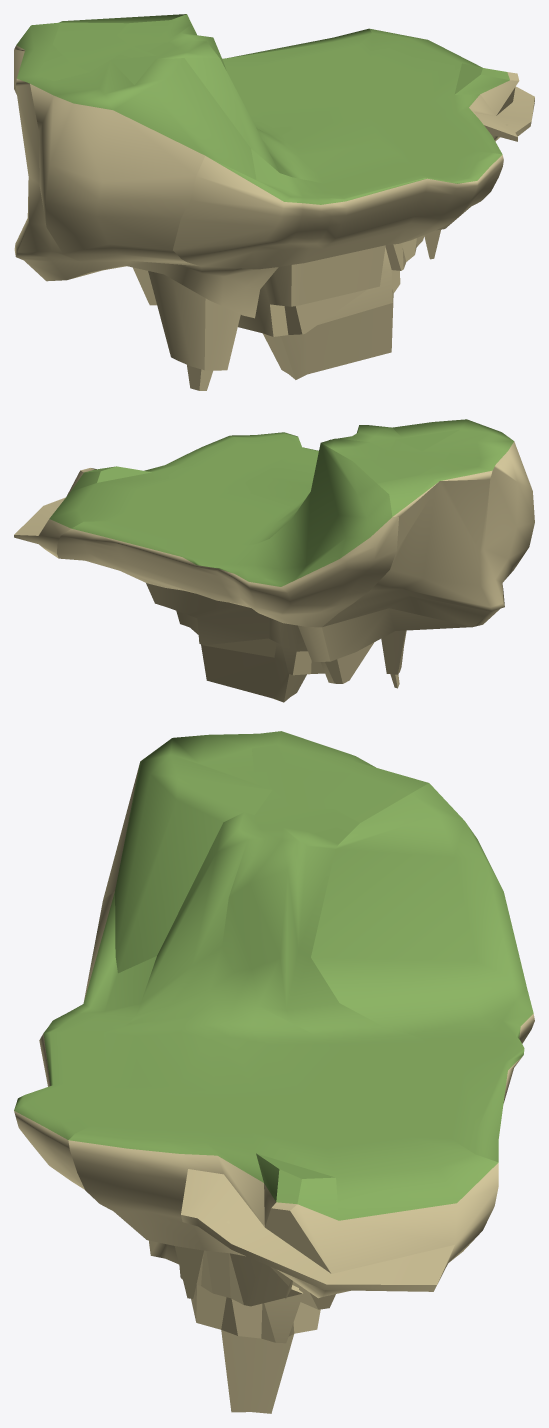
Rendered from Tutorial_Island_2_1_h_30m.fbx.
The picture shows the model from 3 angles, top to bottom: view 1: azimuth 30°, elevation 25°; view 2: azimuth 150°, elevation 25°; view 3: azimuth 270°, elevation 25°; orthographic projection. The views are drawn at different scales.
Visible parts, largest first — view 1: pCube1; view 2: pCube1; view 3: pCube1.
Boxes of the visible parts, x1=… form: pCube1: x1=14, y1=14, x2=534, y2=390; pCube1: x1=14, y1=419, x2=534, y2=702; pCube1: x1=14, y1=731, x2=534, y2=1413.
Size of the model in its own units: 33.99 by 21.3 by 21.41.
